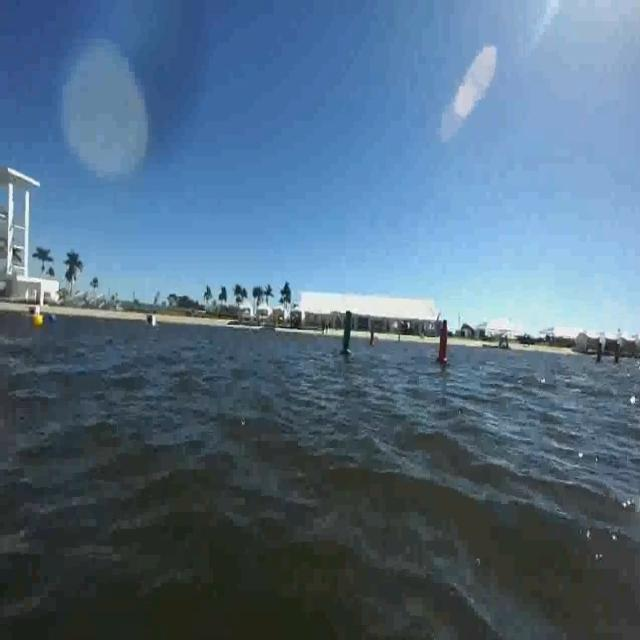green-column-buoy: (341, 310, 357, 358)
red-column-buoy: (436, 319, 450, 365)
yellow-duck: (34, 312, 44, 328)
